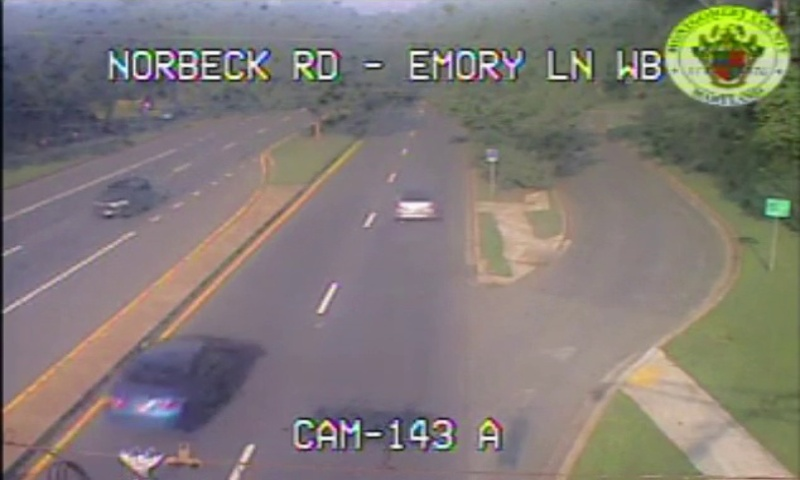car: (104, 335, 229, 423), (394, 196, 439, 221)
